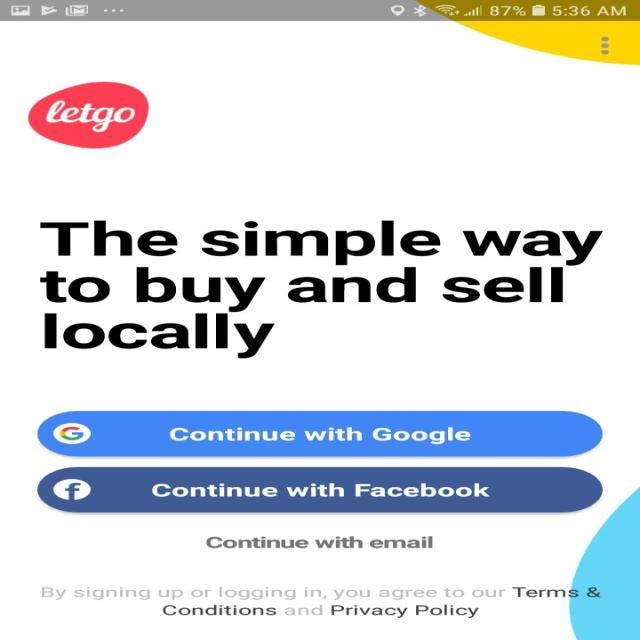Icon: (599, 37, 609, 55)
Image: (28, 82, 150, 149)
Text: (39, 220, 603, 359), (41, 586, 600, 618), (205, 536, 433, 548)
TextButton: (36, 411, 602, 456), (37, 467, 602, 512)
